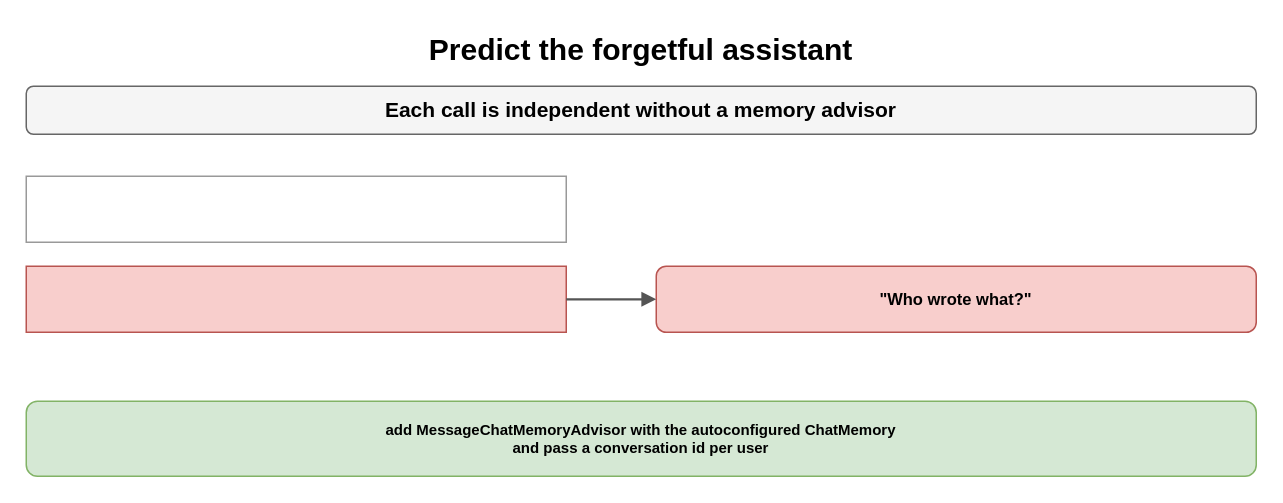
Image size: 1283x503. Some labels were removed from this diagram. Each missing label, with the centre of its shape:
1 · "Recommend a book about Mars": point 295,208
2 · "Who wrote it?" (prompt has no history): point 295,298
